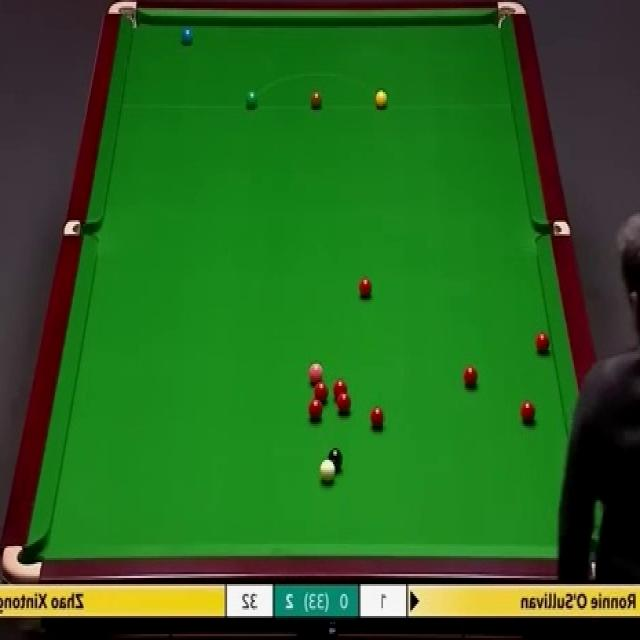black-ball: (328, 449, 342, 472)
blue-ball: (178, 27, 192, 44)
brown-ball: (309, 90, 322, 110)
green-ball: (245, 90, 259, 111)
pink-ball: (308, 359, 324, 384)
red-ball: (369, 405, 385, 432), (533, 332, 550, 356), (462, 365, 479, 388), (520, 400, 536, 424), (308, 396, 323, 421), (314, 380, 330, 402), (358, 278, 373, 300), (333, 378, 347, 401), (337, 393, 351, 414)
white-ball: (319, 457, 336, 487)
yellow-ball: (374, 89, 389, 110)
